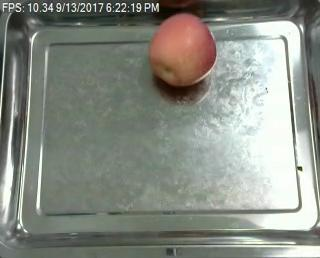apple: (149, 14, 218, 87)
